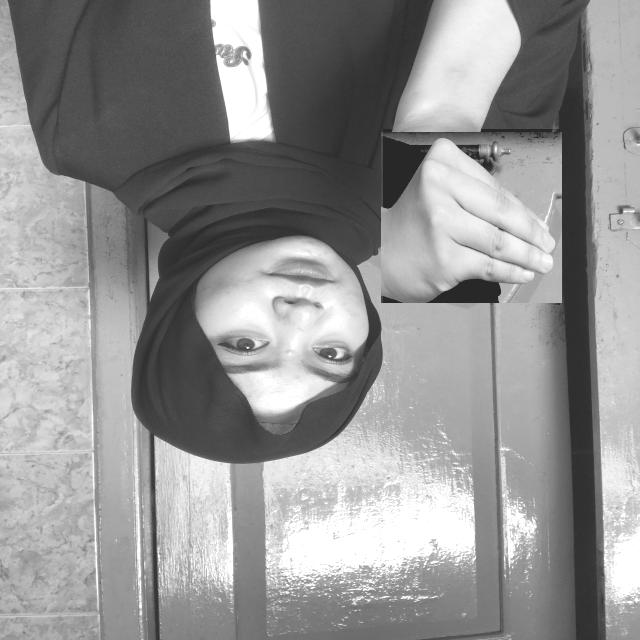kapan: (383, 129, 560, 305)
